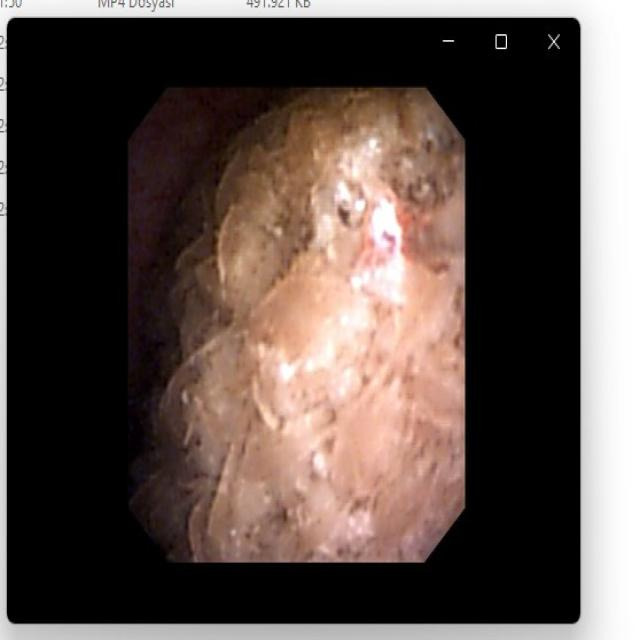stone: (133, 93, 460, 556)
